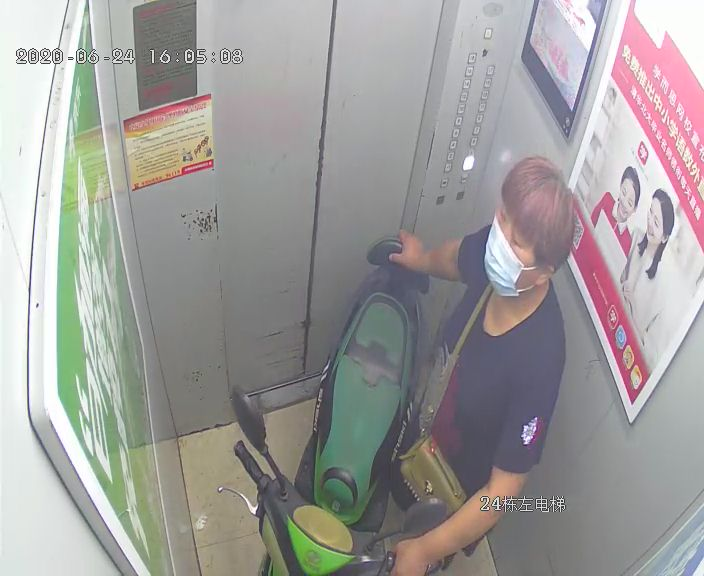Electric-bicycle: (236, 243, 440, 575)
